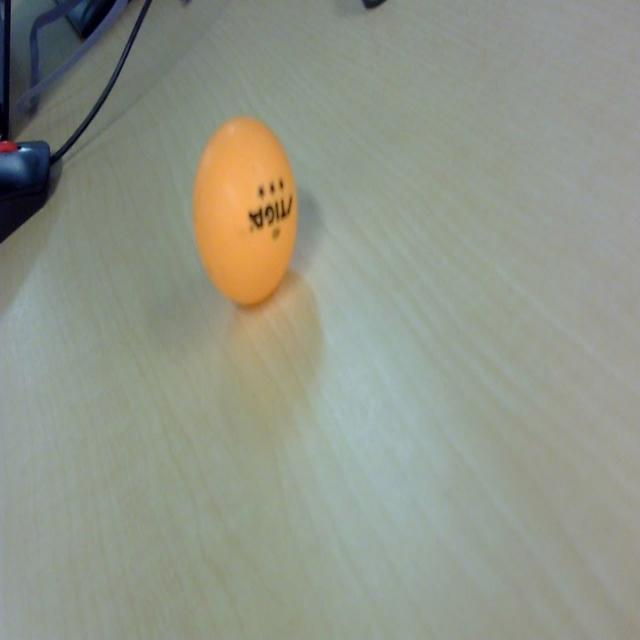ball: (191, 117, 299, 312)
